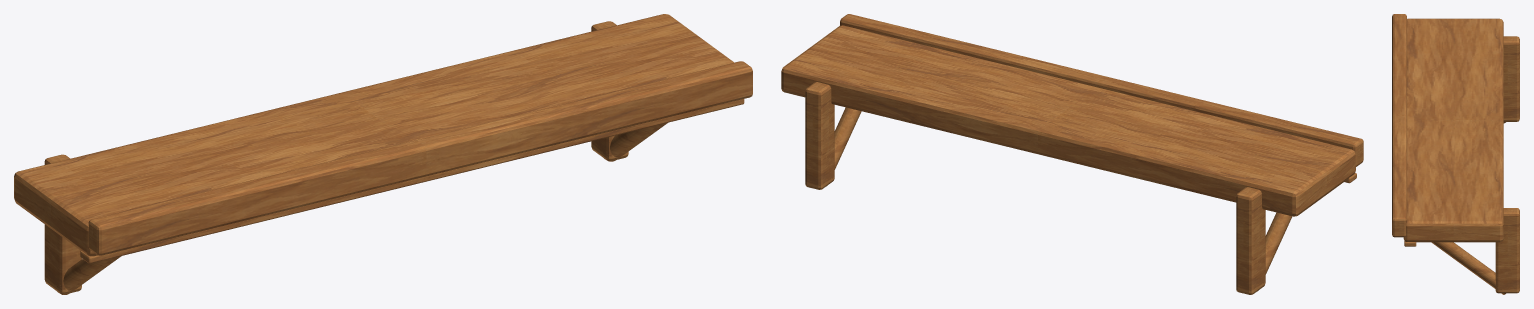
Rendered from WC_CAFE_Shelf_A.glb.
3 views of the same model, side by side, from view 1: azimuth 30°, elevation 25°; view 2: azimuth 150°, elevation 25°; view 3: azimuth 270°, elevation 25° (orthographic). The views are drawn at different scales.
Parts seen in each view (by area): view 1: WC_CAFE_Shelf_A_PolishedRenderMesh; view 2: WC_CAFE_Shelf_A_PolishedRenderMesh; view 3: WC_CAFE_Shelf_A_PolishedRenderMesh.
Boxes of the visible parts, left/top/right/bottom form: WC_CAFE_Shelf_A_PolishedRenderMesh: left=14, top=14, right=752, bottom=294; WC_CAFE_Shelf_A_PolishedRenderMesh: left=781, top=14, right=1363, bottom=294; WC_CAFE_Shelf_A_PolishedRenderMesh: left=1392, top=14, right=1519, bottom=294.
Bounding box in the file's own units: 1.8 × 0.3778 × 0.4725.
Materials: 3 (3 with a texture image).
